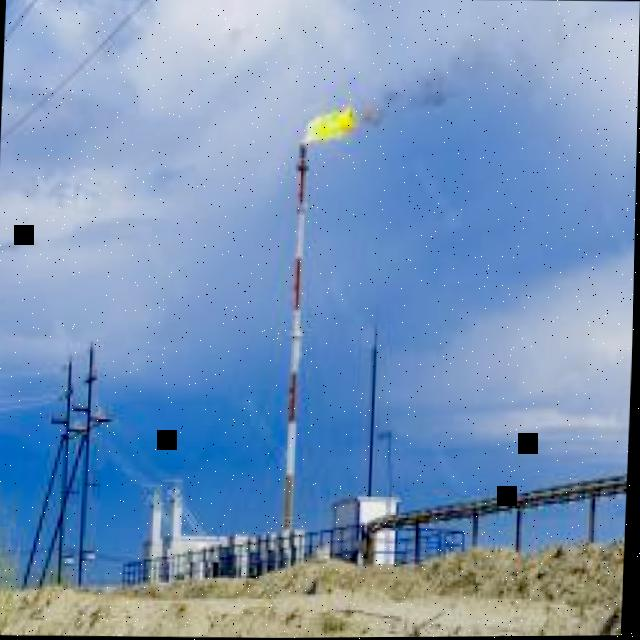fire: (301, 107, 358, 145)
smoke: (357, 28, 502, 128)
